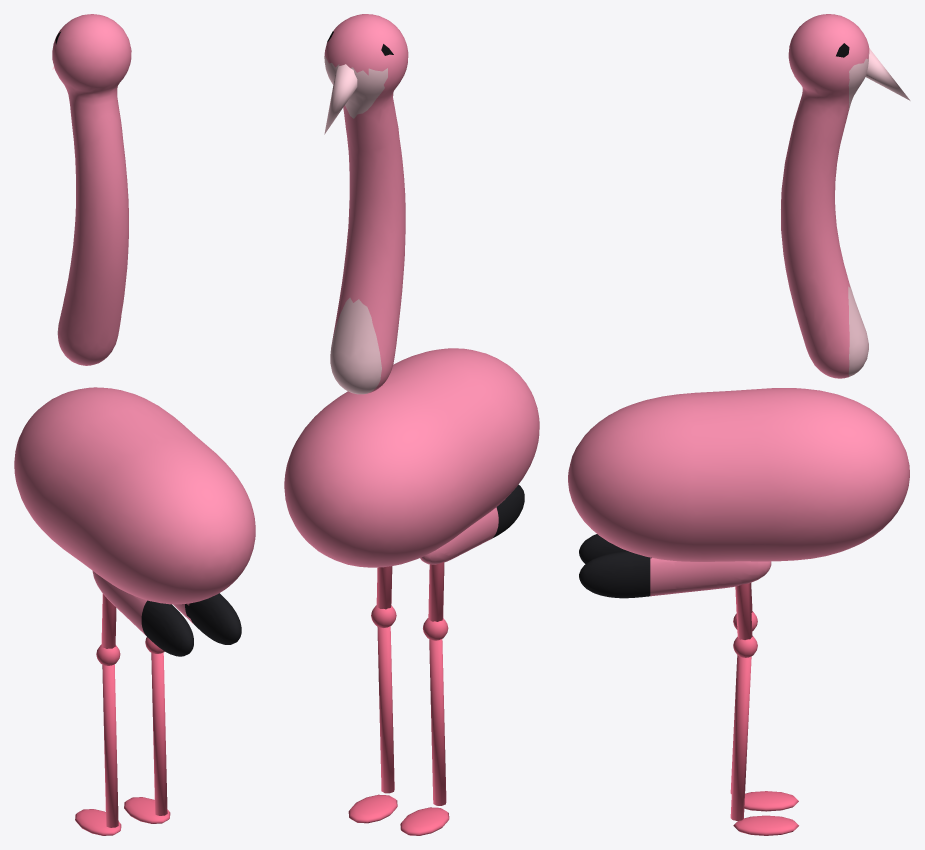
File: animal_flamingo.glb
The picture shows the model from 3 angles, left to right: view 1: azimuth 30°, elevation 25°; view 2: azimuth 150°, elevation 25°; view 3: azimuth 270°, elevation 25°; orthographic projection. The views are drawn at different scales.
Visible parts, largest first — view 1: Body, Head, LegL, WingL, LegR, WingR; view 2: Body, Head, LegL, LegR, WingL; view 3: Body, Head, WingR, LegR, LegL, WingL.
Boxes of the visible parts, x1,y1,x2,y2 form: Body: (14,387,255,604); Head: (52,14,131,365); LegL: (75,594,121,835); WingL: (92,571,193,656); LegR: (124,637,170,823); WingR: (173,593,241,644); Body: (284,348,539,567); Head: (324,14,408,394); LegL: (400,562,449,835); LegR: (348,566,397,823); WingL: (420,485,524,564); Body: (568,388,909,561); Head: (781,14,910,378); WingR: (579,551,771,598); LegR: (730,583,798,835); LegL: (730,583,798,811); WingL: (579,534,626,563).
Bounding box in the file's own units: 0.44 × 2.14 × 0.8291.
